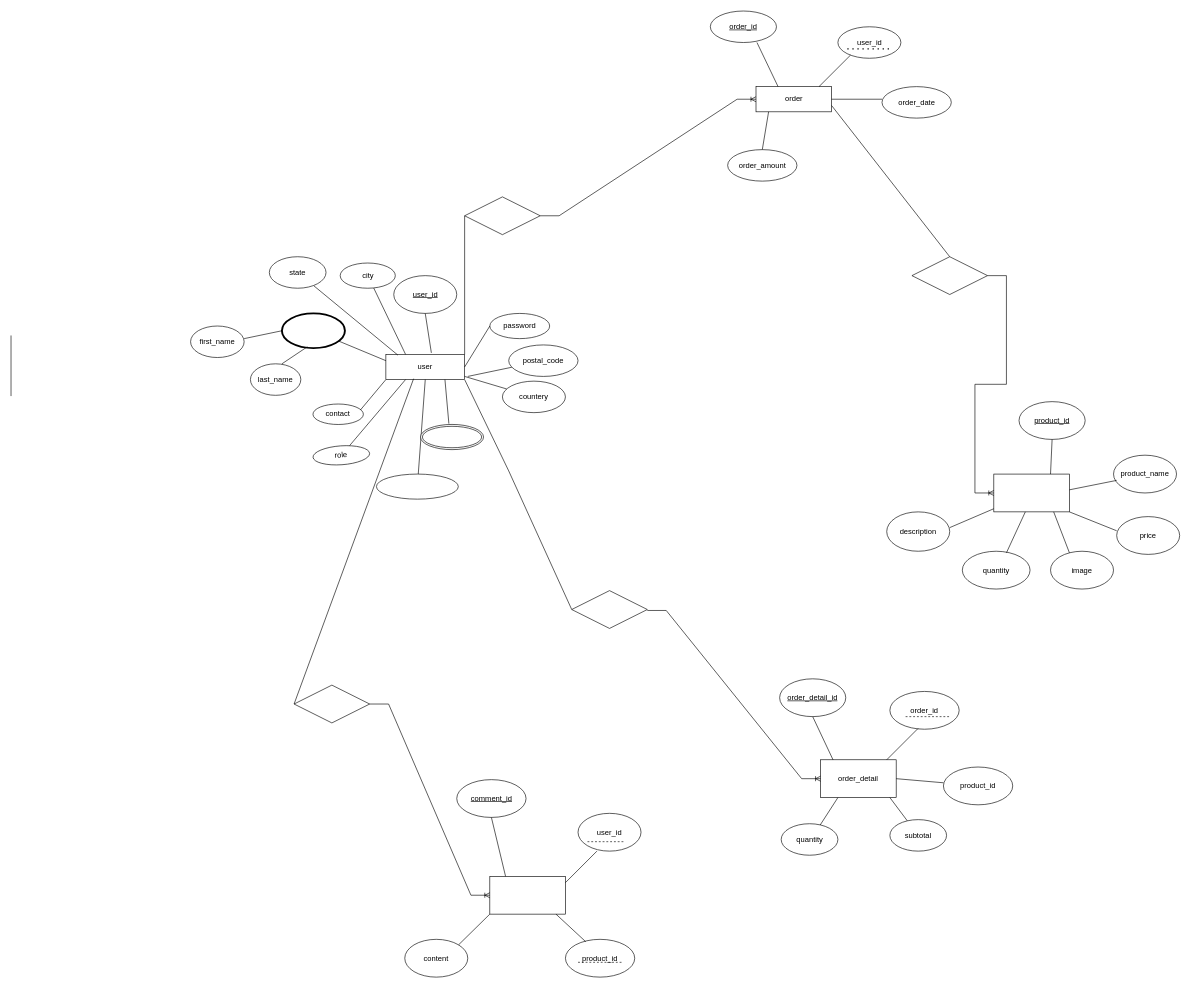
Image size: 1191x988. Some labels were removed from this diagram. Each missing label, with the box of its shape:
comments: (489, 876, 565, 914)
contain: (911, 256, 988, 295)
makes: (464, 196, 540, 235)
name: (281, 312, 346, 349)
password_dreser_token: (376, 473, 458, 499)
product: (993, 473, 1069, 512)
provides: (293, 684, 370, 723)
receives: (571, 590, 647, 628)
street_address: (420, 424, 484, 450)
